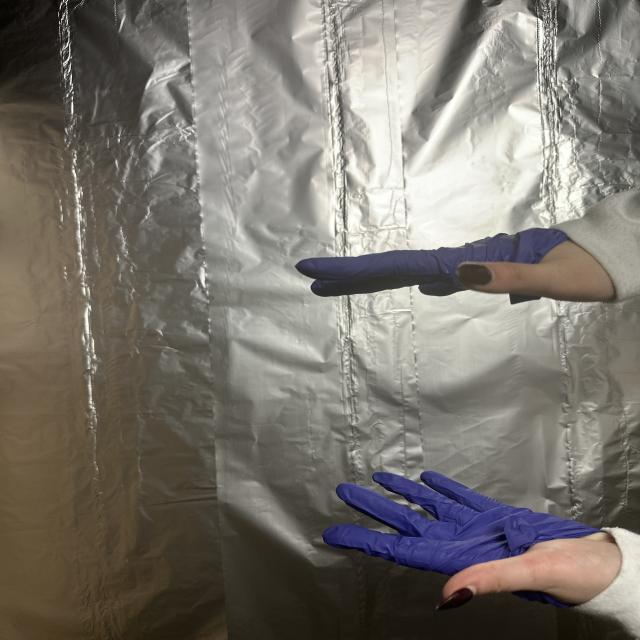glove_partial: (322, 466, 625, 610), (293, 228, 622, 309)
